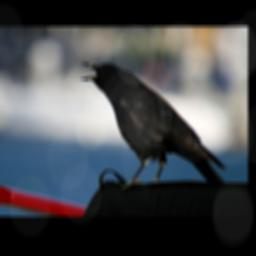Crow: (78, 59, 227, 192)
